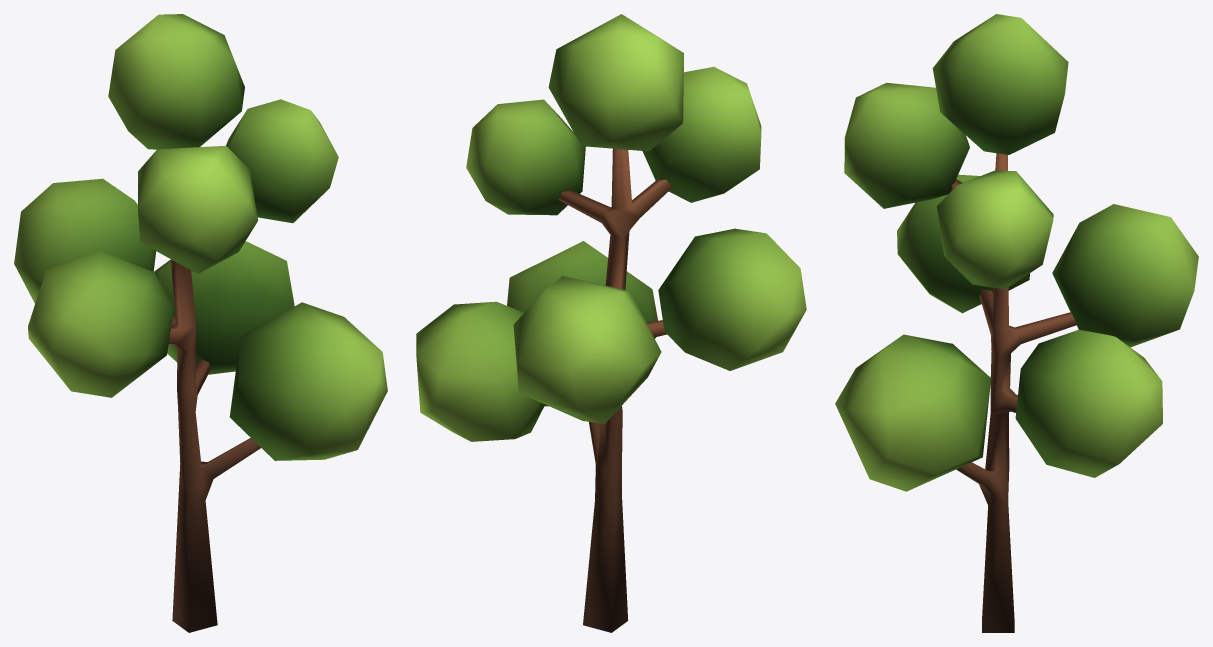
The picture shows the model from 3 angles, left to right: view 1: azimuth 30°, elevation 25°; view 2: azimuth 150°, elevation 25°; view 3: azimuth 270°, elevation 25°; orthographic projection.
Visible parts, largest first — view 1: TreeR3; view 2: TreeR3; view 3: TreeR3.
Part boxes in pixels (x1,y1,x2,y2): TreeR3: (14, 14, 387, 632); TreeR3: (416, 14, 806, 632); TreeR3: (835, 14, 1198, 632).
Size of the model in its own units: 5.46 by 10.1 by 5.58.
Materials: 1 (1 with a texture image).
